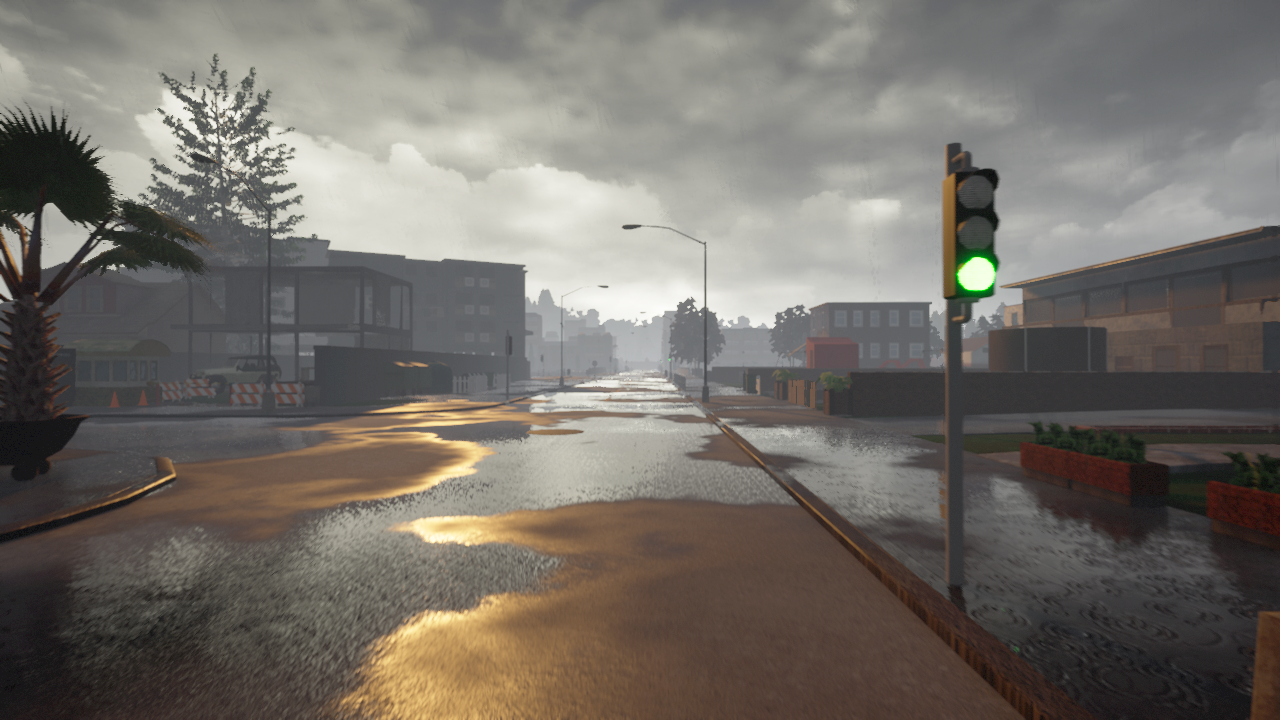green: (944, 168, 1005, 303)
